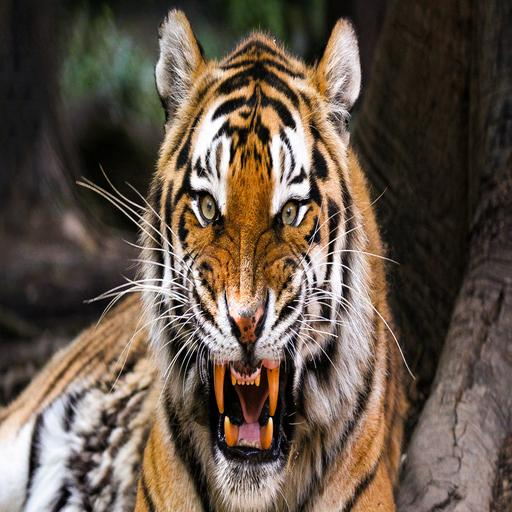Tiger: (0, 12, 428, 512)
